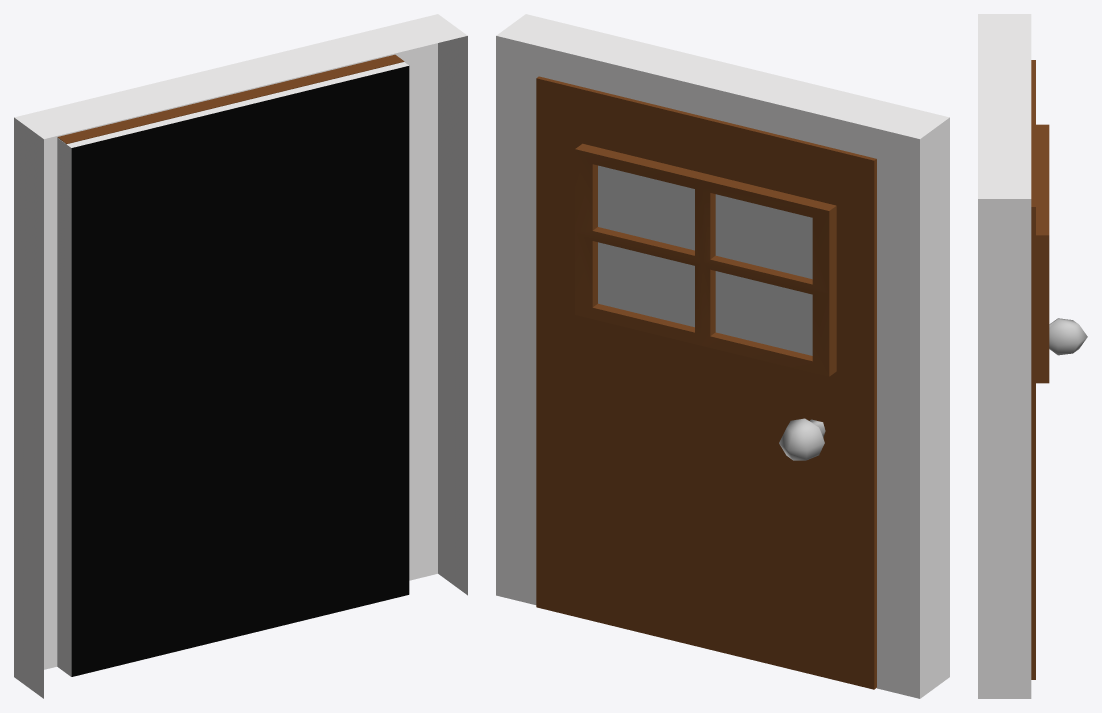
File: DoorFrame.fbx
3 renders of one model, left to right at view 1: azimuth 30°, elevation 25°; view 2: azimuth 150°, elevation 25°; view 3: azimuth 270°, elevation 25°, orthographic. The views are drawn at different scales.
Visible parts, largest first — view 1: DoorFrame, Door; view 2: Door, DoorFrame; view 3: DoorFrame, Door.
Part boxes in pixels (bbox=[...]): DoorFrame: bbox=[14, 14, 467, 698]; Door: bbox=[57, 54, 404, 144]; Door: bbox=[536, 76, 876, 689]; DoorFrame: bbox=[496, 14, 949, 698]; DoorFrame: bbox=[978, 14, 1031, 698]; Door: bbox=[1031, 60, 1087, 679].
Bounding box in the file's own units: 2.36 × 2.98 × 0.593.
